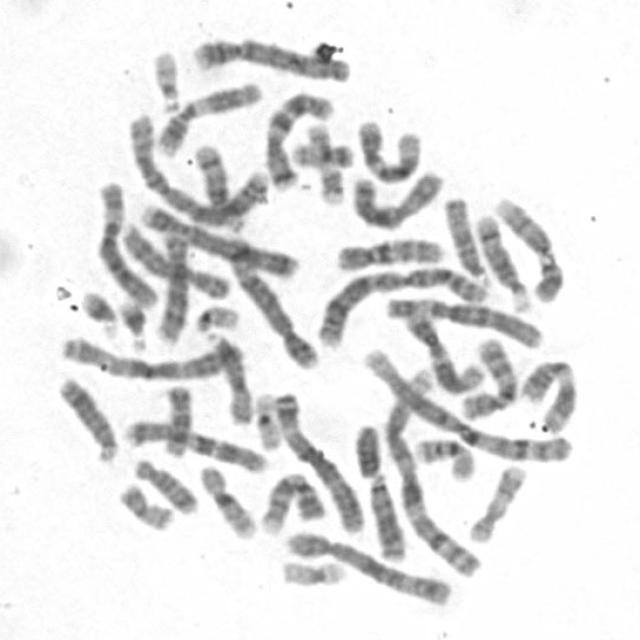A1: (368, 345, 482, 577), (356, 346, 573, 466)
A2: (122, 107, 269, 230), (310, 260, 492, 349)
A3: (268, 385, 366, 537), (56, 328, 243, 382)
B4: (136, 199, 304, 281), (188, 30, 353, 83)
B5: (280, 525, 456, 608), (223, 229, 322, 370)
C10: (455, 331, 519, 422), (331, 231, 446, 272)
C11: (152, 75, 266, 157), (517, 354, 581, 434)
C12: (399, 306, 486, 394), (352, 113, 424, 185)
C6: (380, 291, 545, 350), (90, 175, 161, 310)
C7: (121, 415, 272, 473), (261, 86, 336, 193)
C8: (116, 216, 234, 301), (150, 229, 195, 346)
C9: (490, 190, 568, 304), (254, 466, 328, 536)
D13: (52, 371, 118, 464), (363, 467, 410, 563)
D14: (471, 207, 535, 314), (187, 137, 245, 233)
D15: (202, 327, 254, 428), (439, 190, 493, 287)
E16: (192, 459, 260, 541), (409, 432, 478, 483)
E17: (462, 458, 528, 544), (302, 116, 349, 207)
E18: (129, 453, 201, 516), (159, 379, 196, 457)
F19: (276, 552, 349, 590), (249, 386, 285, 452)
F20: (113, 477, 177, 533), (286, 134, 356, 169)
G21: (76, 284, 121, 339), (114, 293, 151, 353)
G22: (147, 42, 184, 114), (190, 299, 242, 334)
X: (348, 167, 446, 231)
Y: (349, 417, 385, 480)
